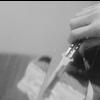melee: (38, 4, 100, 98)
